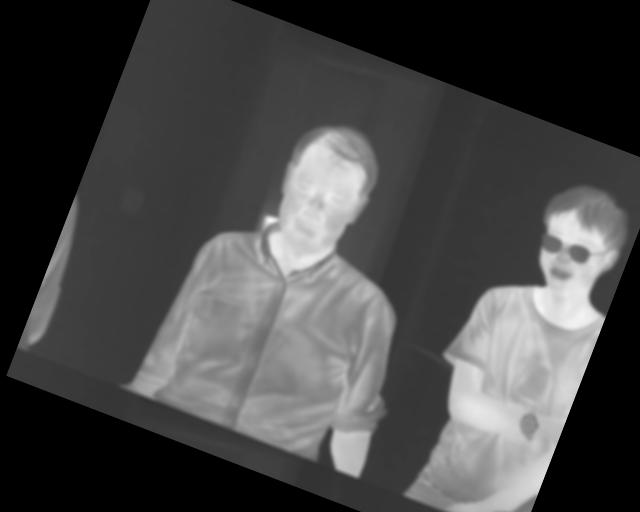face: (258, 109, 393, 270), (521, 173, 640, 310)
